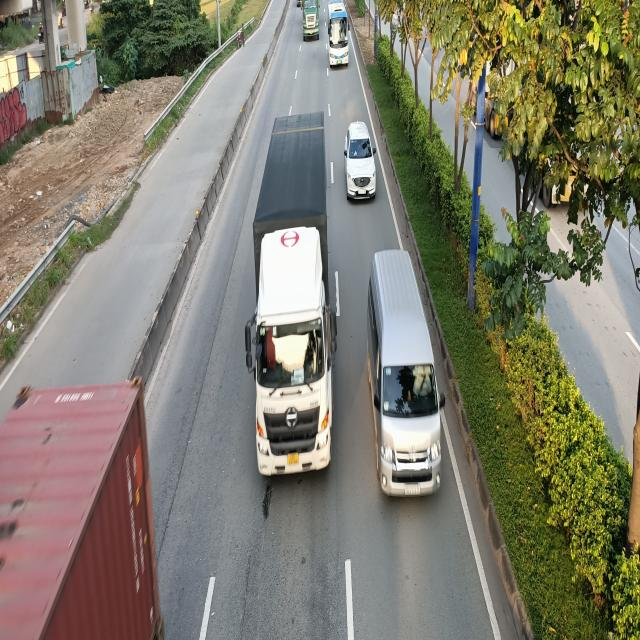car: (343, 121, 378, 201)
coach: (327, 0, 353, 66)
container: (303, 0, 320, 43)
truck: (243, 116, 337, 479)
van: (368, 257, 448, 502)
